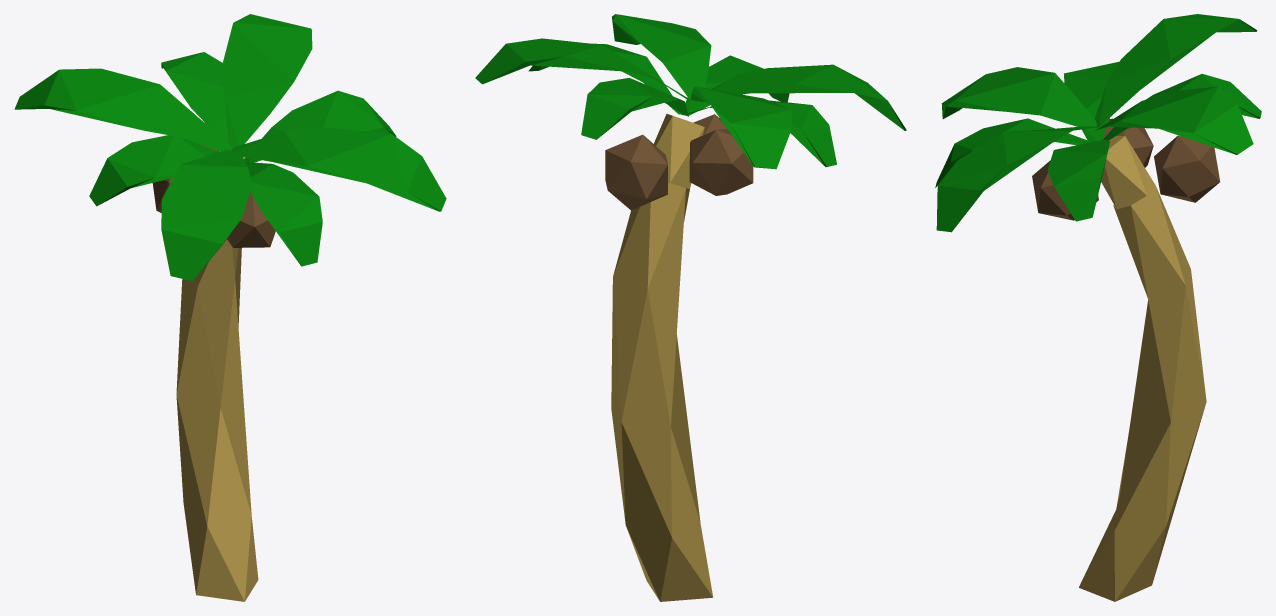
File: palm-low.fbx
3 renders of one model, left to right at view 1: azimuth 30°, elevation 25°; view 2: azimuth 150°, elevation 25°; view 3: azimuth 270°, elevation 25°, orthographic. The views are drawn at different scales.
Visible parts, largest first — view 1: palm-low; view 2: palm-low; view 3: palm-low.
Boxes of the visible parts, box(x1,y1,x2,y2) form: palm-low: box(14, 14, 446, 601); palm-low: box(475, 14, 906, 601); palm-low: box(935, 14, 1261, 601).
Size of the model in its own units: 9.74 by 8.89 by 15.89.
